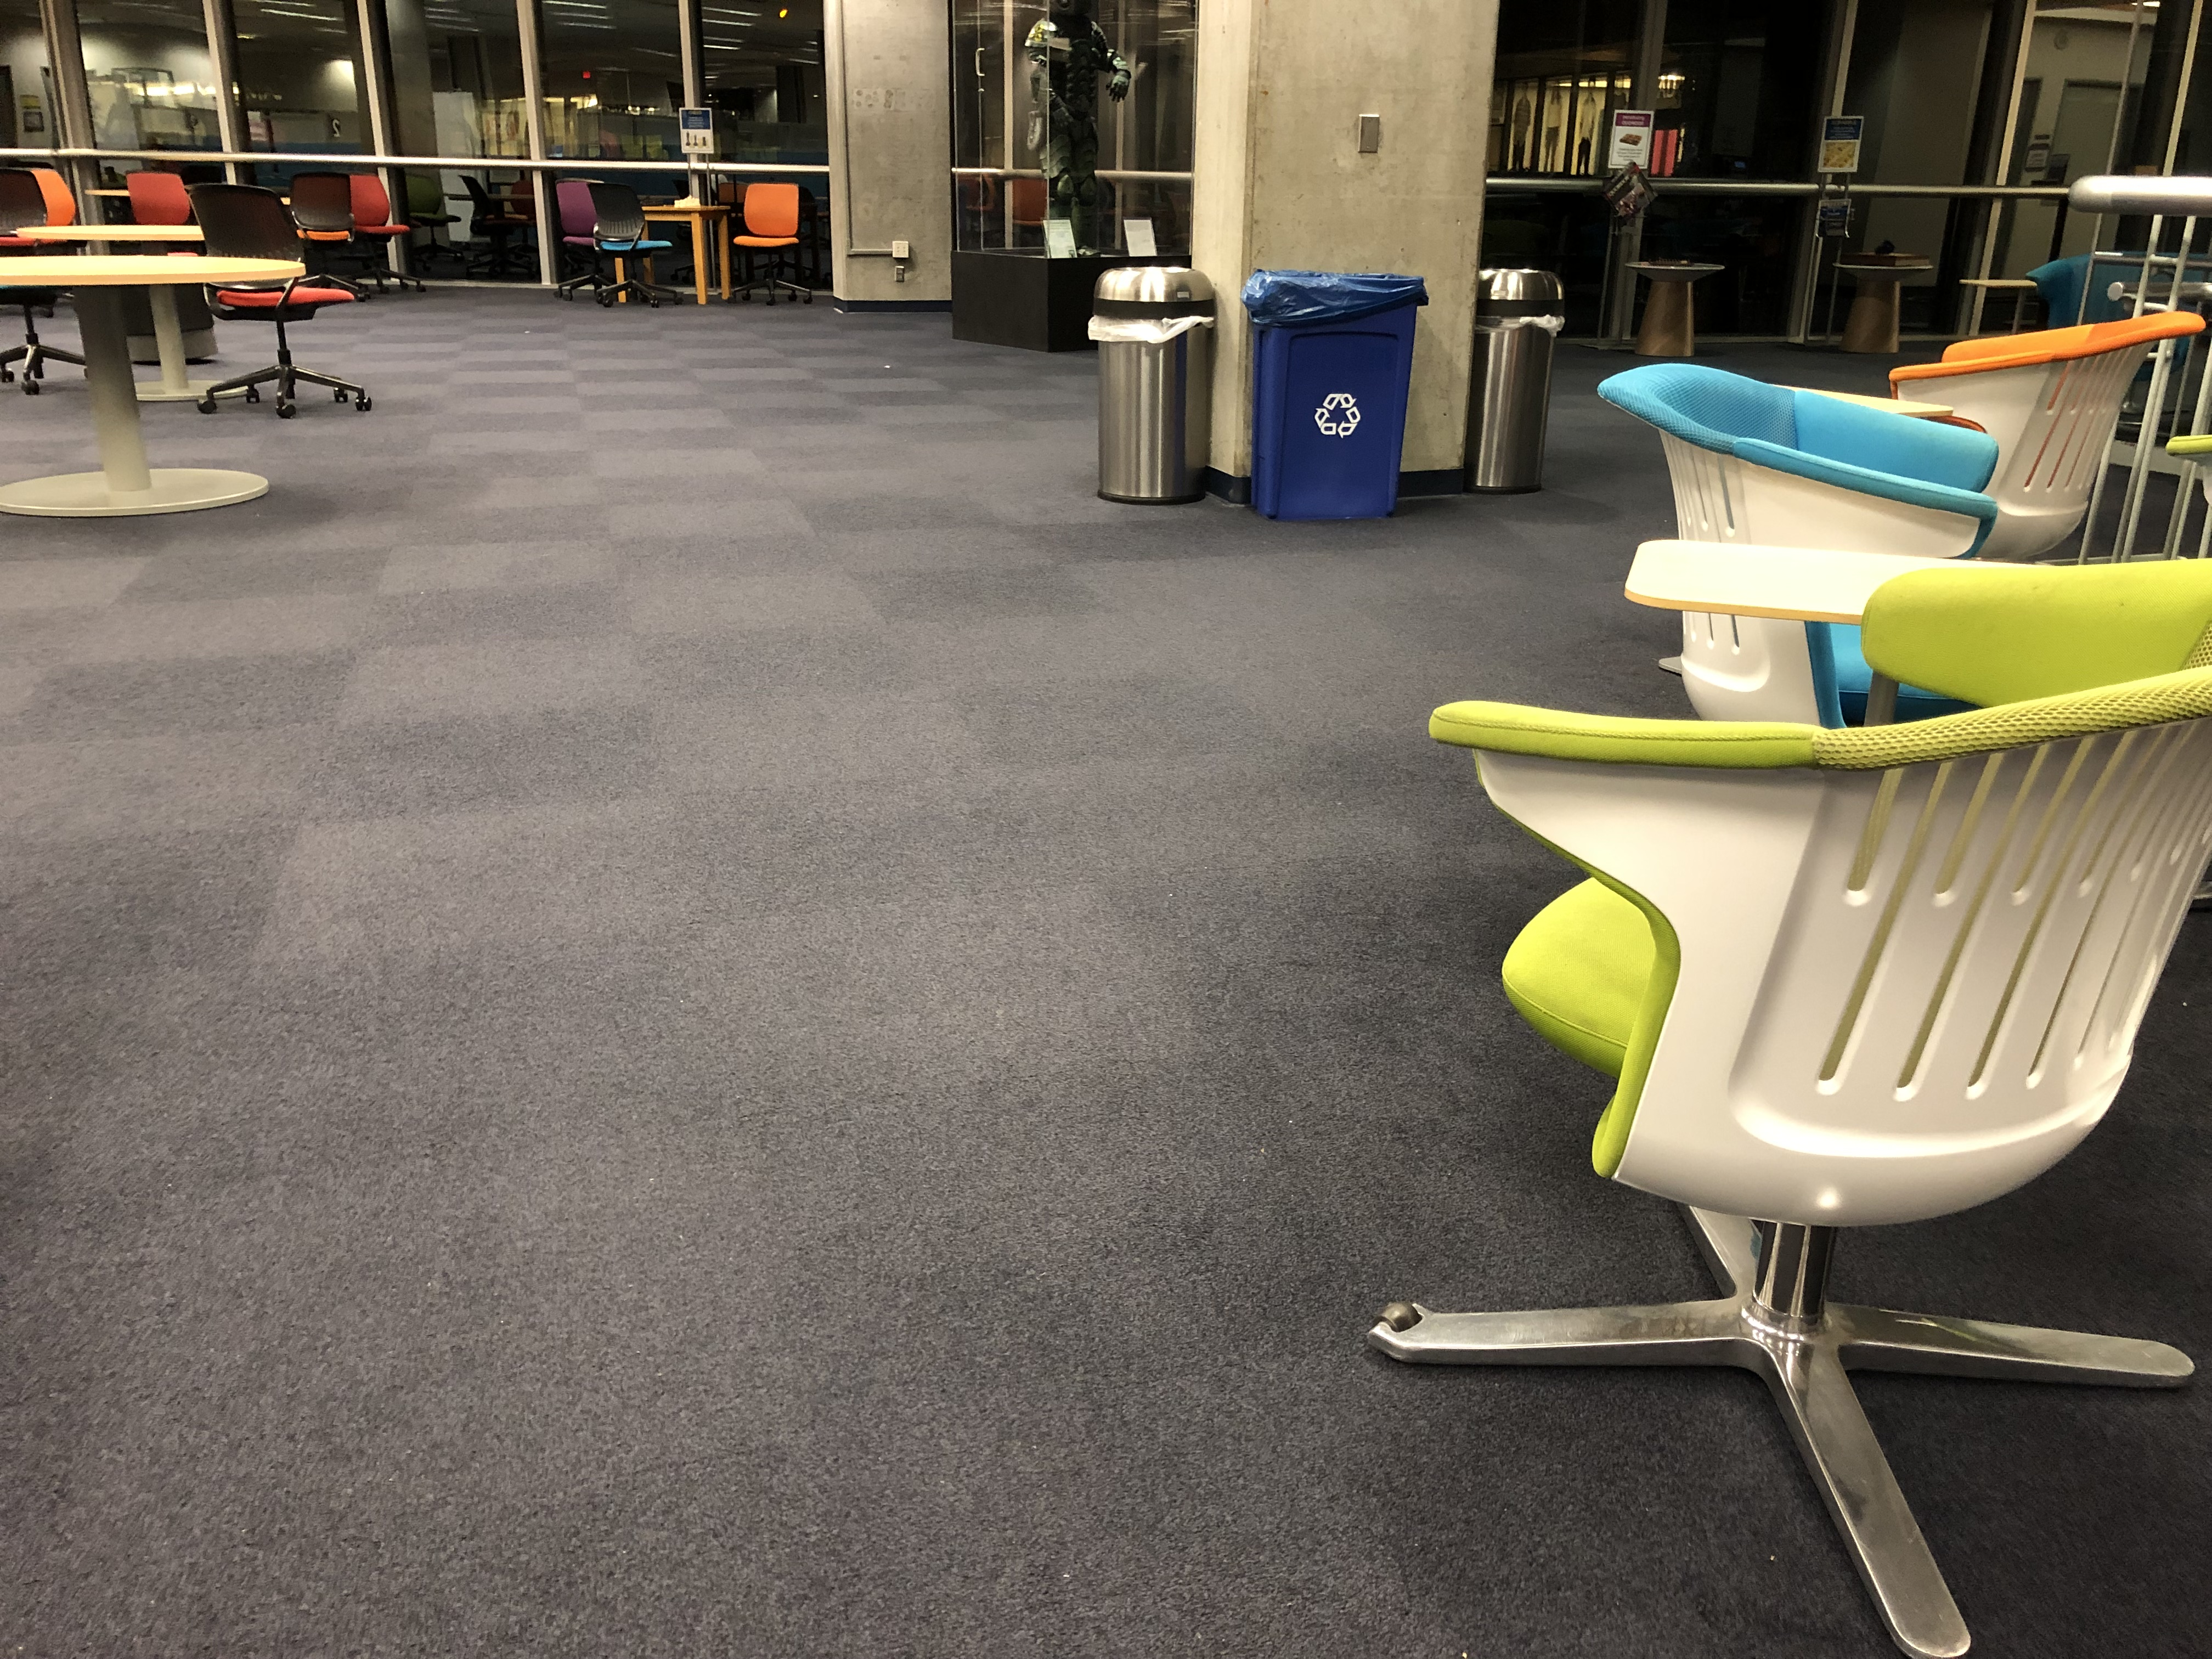Obstacle: (1334, 528, 2202, 1652), (0, 235, 315, 537), (1587, 354, 2008, 533), (1258, 265, 1413, 514), (1090, 265, 1216, 498), (1475, 242, 1573, 493)
